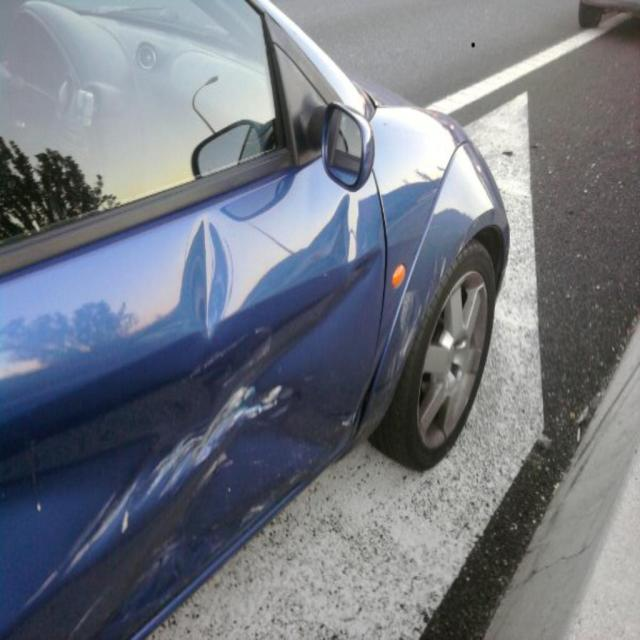Damage: (88, 184, 422, 626)
